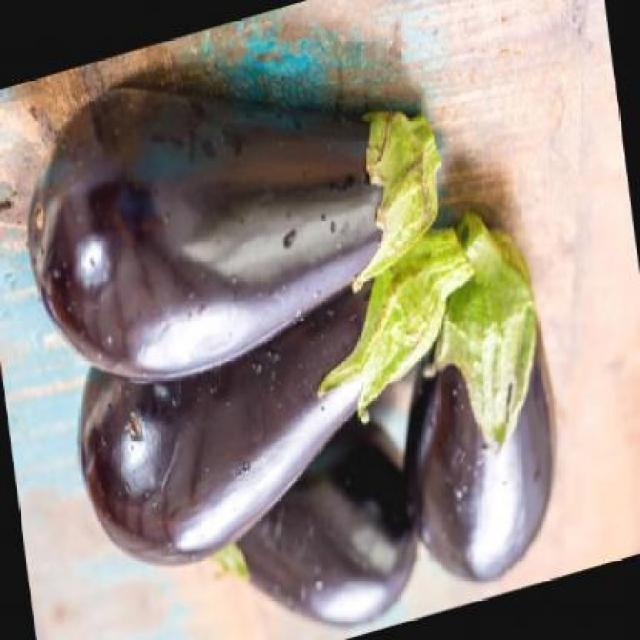eggplant: (61, 217, 501, 591), (8, 52, 466, 394), (376, 213, 576, 601), (191, 396, 427, 638)
